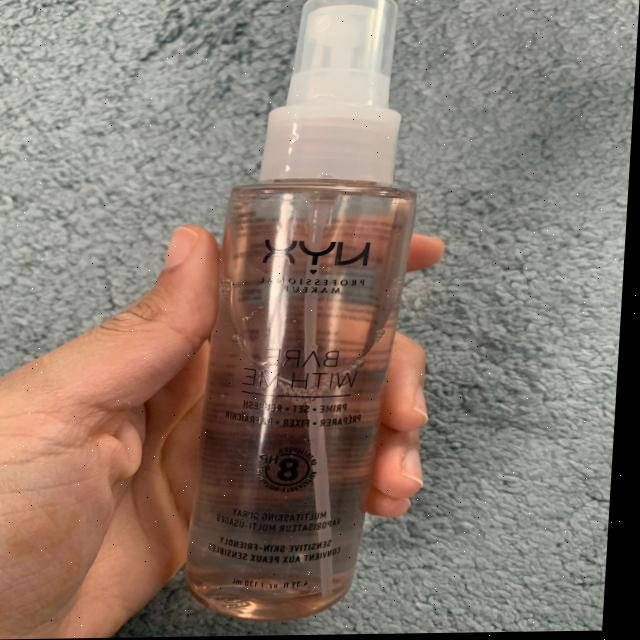setting spray: (164, 0, 433, 635)
